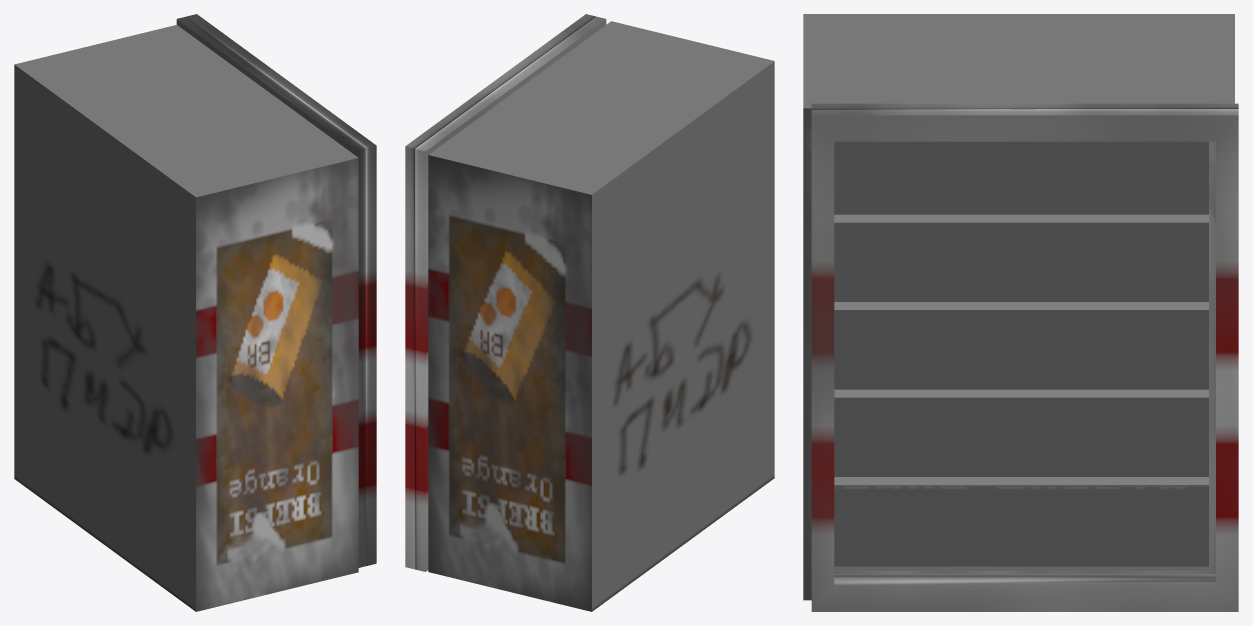
File: fridgeDrinks.fbx
The picture shows the model from 3 angles, left to right: view 1: azimuth 30°, elevation 25°; view 2: azimuth 150°, elevation 25°; view 3: azimuth 270°, elevation 25°; orthographic projection. The views are drawn at different scales.
Parts seen in each view (by area): view 1: Fridge_Base, Fridge_Door; view 2: Fridge_Base, Fridge_Door; view 3: Fridge_Door, Fridge_Base.
Boxes of the visible parts, box(x1,y1,x2,y2) form: Fridge_Base: box(14, 25, 358, 611); Fridge_Door: box(176, 14, 376, 567); Fridge_Base: box(428, 21, 774, 611); Fridge_Door: box(405, 14, 606, 571); Fridge_Door: box(811, 103, 1238, 611); Fridge_Base: box(803, 14, 1234, 600).
Bounding box in the file's own units: 181 × 394 × 313.
